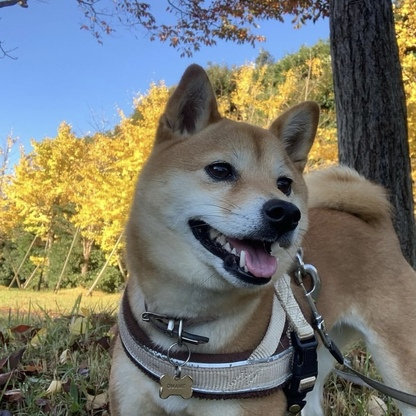shiba: (104, 59, 415, 416)
